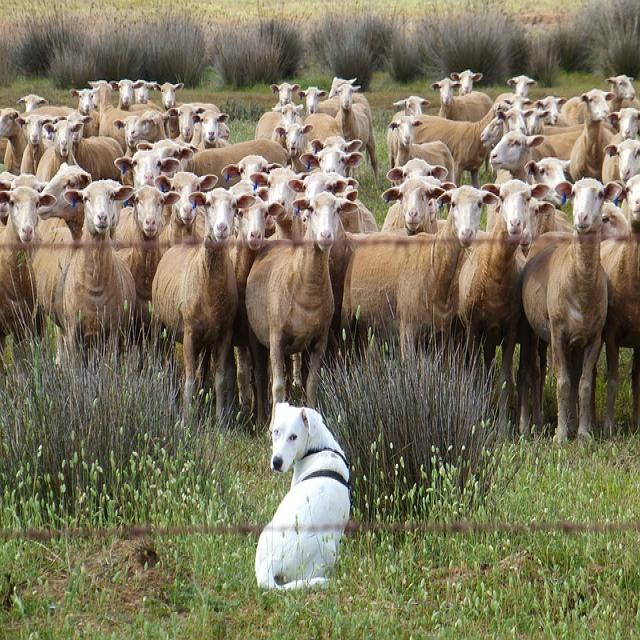dog: (254, 403, 351, 592)
goat: (521, 179, 640, 443), (341, 185, 488, 347), (244, 191, 349, 403), (151, 188, 253, 381), (459, 171, 549, 361), (63, 180, 137, 331), (0, 172, 47, 353), (130, 185, 179, 245)
